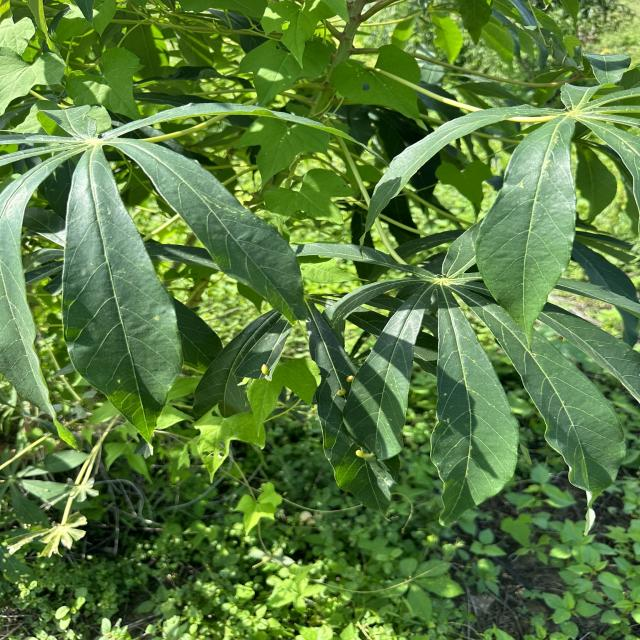Maleza: (9, 431, 322, 635), (277, 510, 628, 639), (347, 0, 552, 97), (56, 0, 267, 87), (241, 4, 425, 100)
Mosca: (331, 368, 359, 406), (349, 435, 379, 462), (245, 355, 276, 381)
